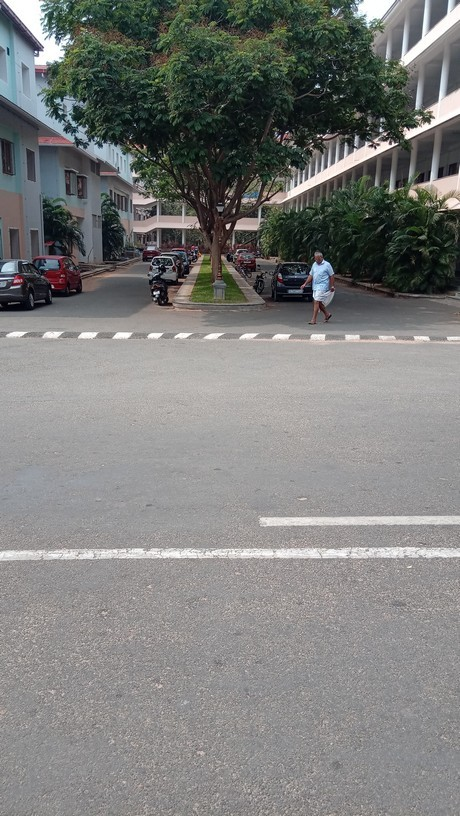bump: (1, 332, 460, 347)
